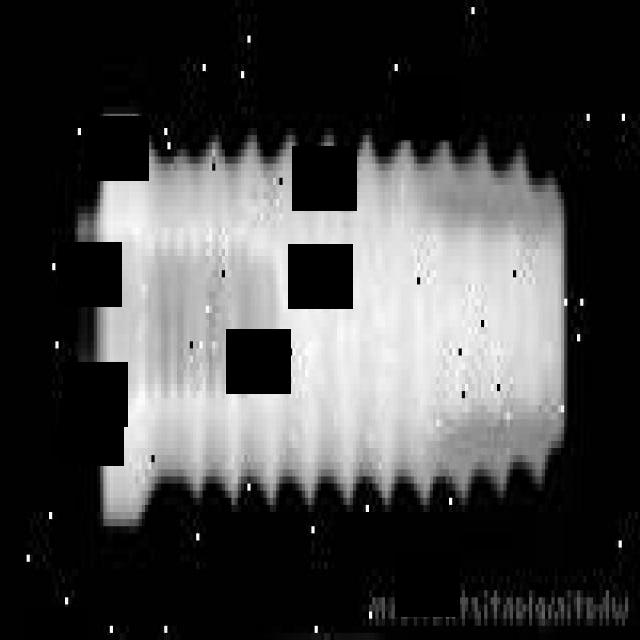Osstem Implant: (93, 114, 570, 526)
